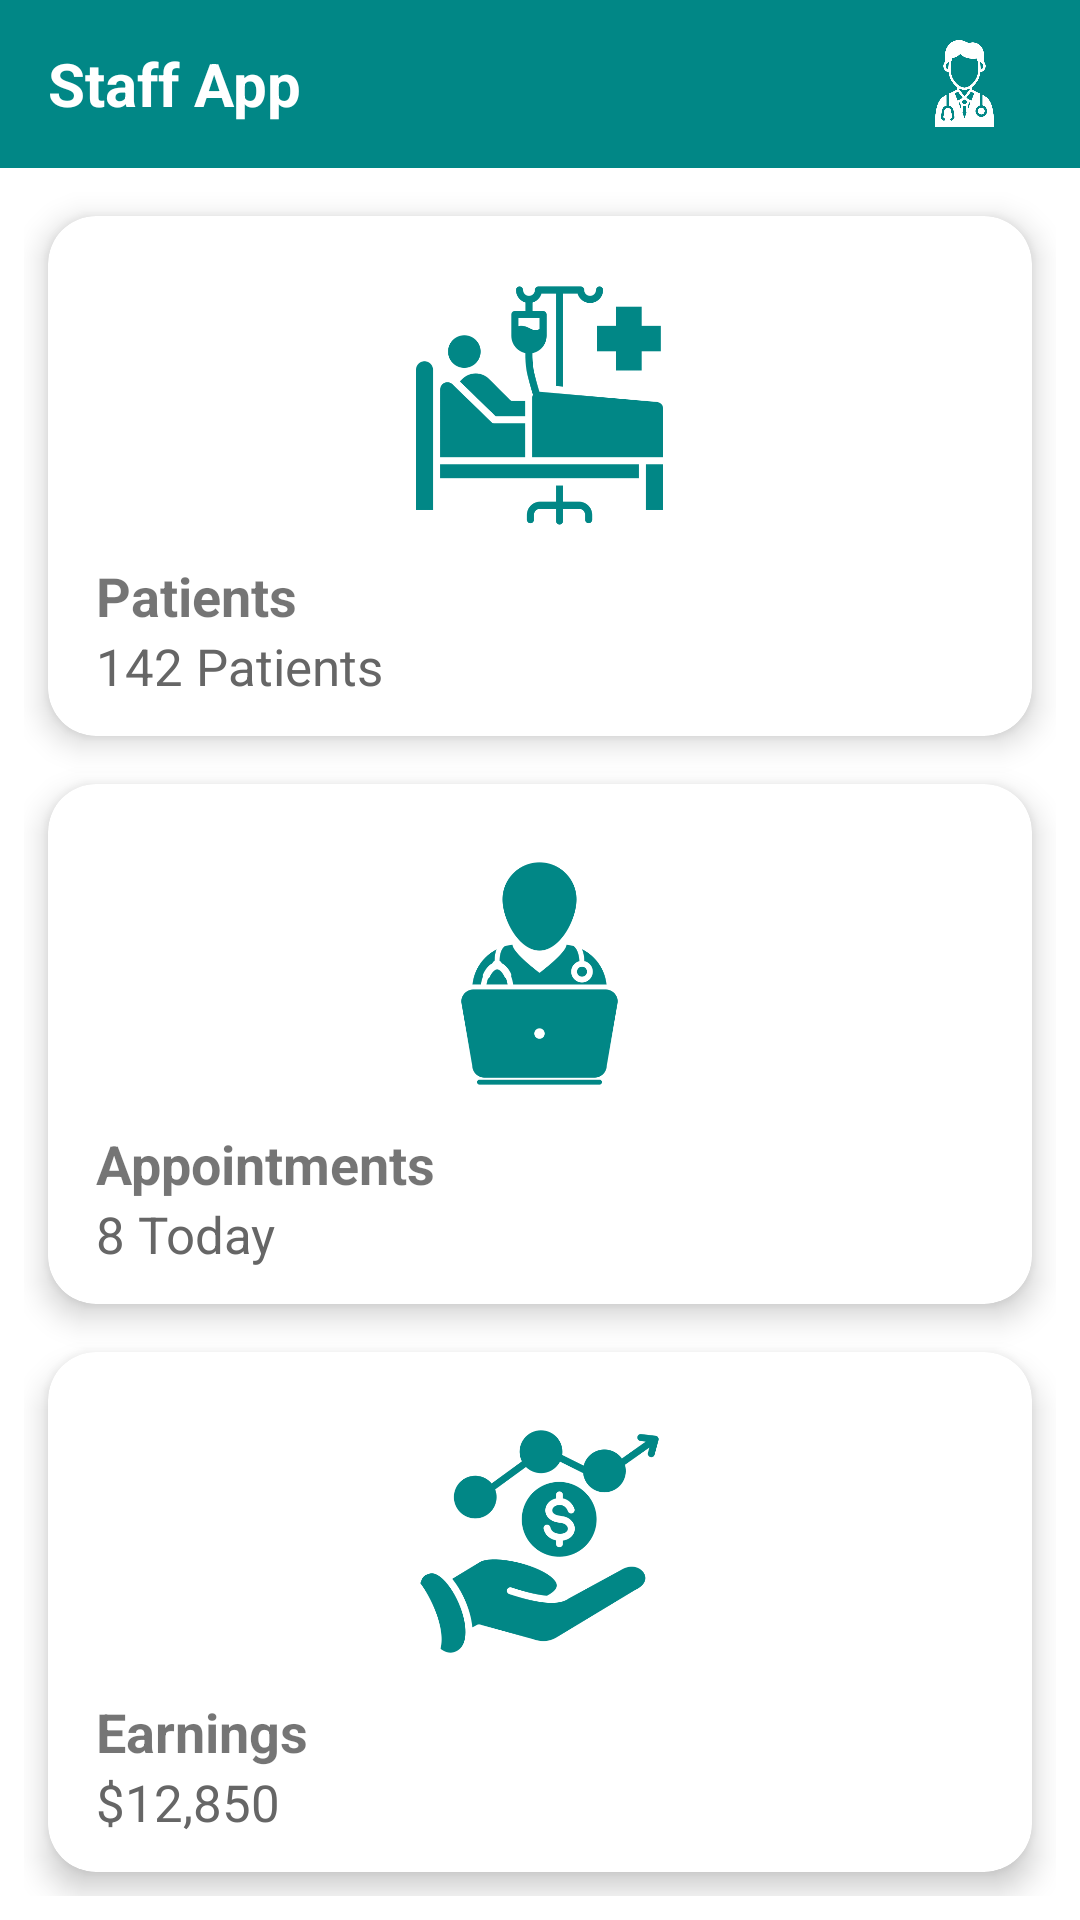

Screen size 1080w x 1920h. Icon name, then its box in pixels as (x1, y1, x2, y2):
medical appointment: (461, 862, 618, 1085)
Profile Icon: (935, 40, 994, 127)
